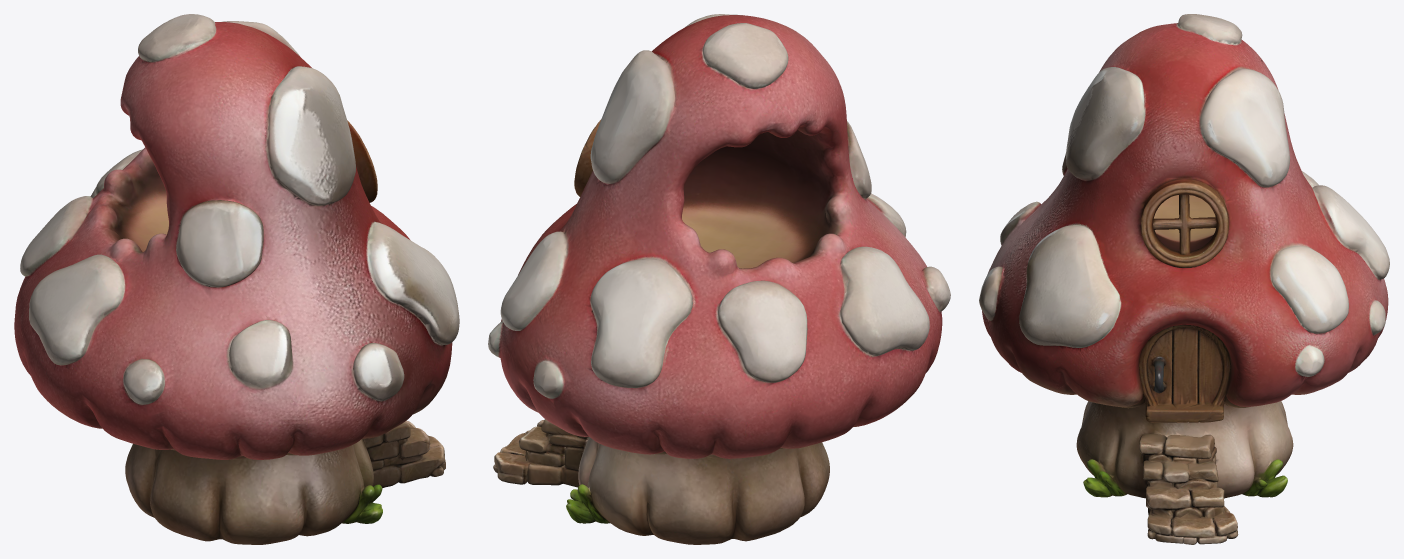
File: mushroom.glb
The picture shows the model from 3 angles, left to right: view 1: azimuth 30°, elevation 25°; view 2: azimuth 150°, elevation 25°; view 3: azimuth 270°, elevation 25°; orthographic projection. The views are drawn at different scales.
Parts seen in each view (by area): view 1: model; view 2: model; view 3: model.
Boxes of the visible parts, x1,y1,x2,y2 form: model: [14, 14, 459, 544]; model: [488, 14, 950, 544]; model: [979, 14, 1389, 544].
Size of the model in its own units: 0.8383 by 0.9789 by 0.8525.
Materials: 1 (1 with a texture image).
